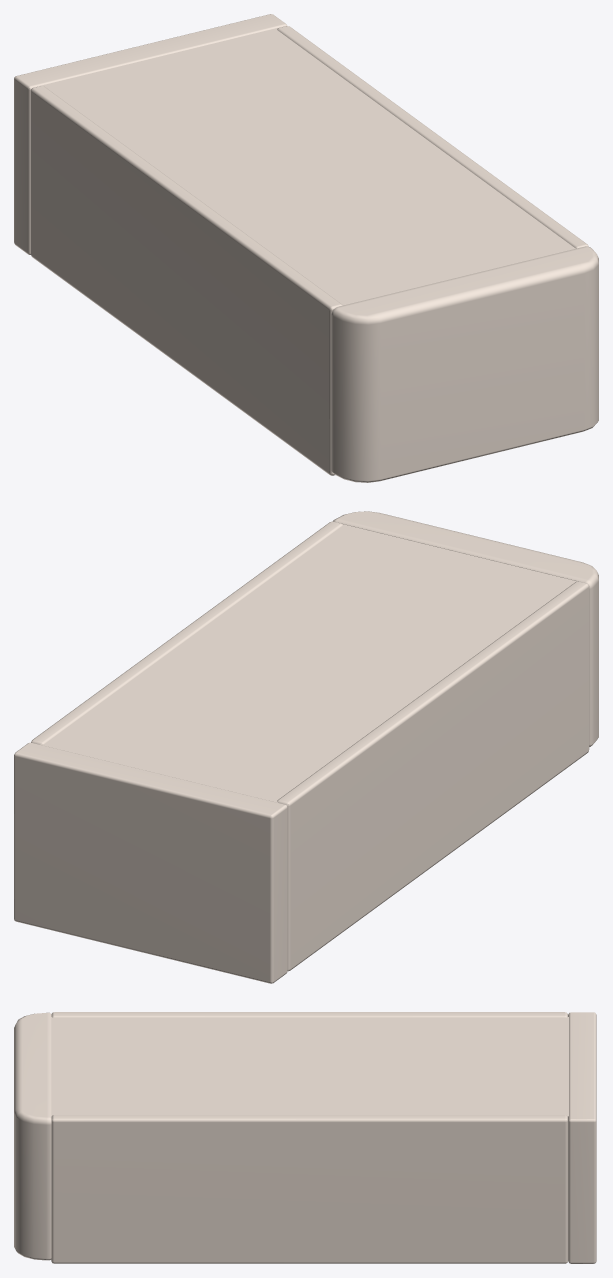
The model's file is FridgebodymeshFridgeA5_0_GeomSubset_0.obj.
3 views of the same model, one above another, from view 1: azimuth 30°, elevation 25°; view 2: azimuth 150°, elevation 25°; view 3: azimuth 270°, elevation 25° (orthographic). The views are drawn at different scales.
Visible parts, largest first — view 1: FridgebodymeshFridgeA5_0_GeomSubset_0; view 2: FridgebodymeshFridgeA5_0_GeomSubset_0; view 3: FridgebodymeshFridgeA5_0_GeomSubset_0.
Boxes of the visible parts, <box> form: FridgebodymeshFridgeA5_0_GeomSubset_0: <box>14,14,598,482</box>; FridgebodymeshFridgeA5_0_GeomSubset_0: <box>14,511,598,983</box>; FridgebodymeshFridgeA5_0_GeomSubset_0: <box>14,1012,596,1263</box>.
Bounding box in the file's own units: 0.8218 × 0.5124 × 1.87.
